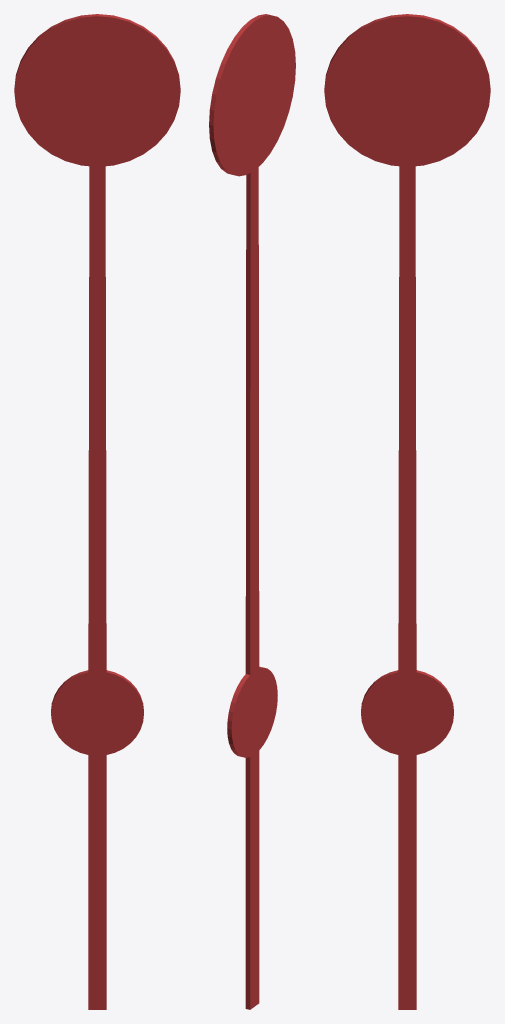
Rendered from SecondHand.glb.
3 renders of one model, left to right at view 1: azimuth 90°, elevation 25°; view 2: azimuth 150°, elevation 25°; view 3: azimuth 270°, elevation 25°, orthographic.
Visible parts, largest first — view 1: SecondHand; view 2: SecondHand; view 3: SecondHand.
Boxes of the visible parts, <box> form: SecondHand: <box>14,14,180,1009</box>; SecondHand: <box>209,14,295,1009</box>; SecondHand: <box>324,14,490,1009</box>.
Bounding box in the file's own units: 0.007 × 1.48 × 0.224.
